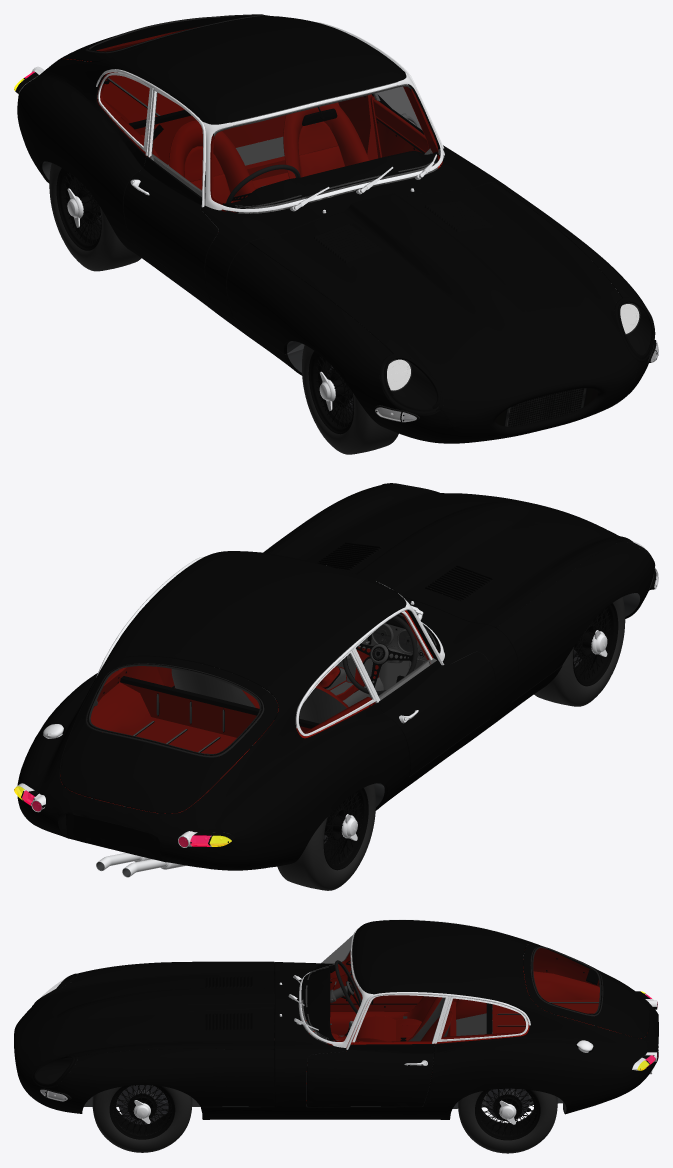
Rendered from jaguar-titi.glb.
The picture shows the model from 3 angles, top to bottom: view 1: azimuth 30°, elevation 25°; view 2: azimuth 150°, elevation 25°; view 3: azimuth 270°, elevation 25°; orthographic projection. The views are drawn at different scales.
Visible parts, largest first — view 1: COP:body_hooda_body_body.002, Jag1:body_body_body_body.002, COP:window_glassF_window_window.002, COP:leather_interior_leather_leather.002, Jag1:chrome_body_chrome_chrome.002, COP:leather_seatL_leather_leather.002, COP:bump_leather_interior_bump_leather_bump_leather.002, COP:leather_seatR_leather_leather.002, COP:window_glassRF_window_window.002, W2.002, chrome_rim_wheel_chrome_rim_chrome_rim1.002, W4.002 (+14 smaller); view 2: Jag1:body_body_body_body.002, COP:body_hooda_body_body.002, Jag1:body_trunk_body_body.002, Jag1:window_glassR_window_window.002, COP:leather_interior_leather_leather.002, COP:window_glassRF_window_window.002, Jag1:chrome_body_chrome_chrome.002, Jag1:window_glassRR_window_window.002, W4.002, chrome_rim_wheel_chrome_rim_chrome_rim1.002, W2.002, chrome_rim_wheel_chrome_rim_chrome_rim.007 (+9 smaller); view 3: Jag1:body_body_body_body.002, COP:body_hooda_body_body.002, COP:leather_interior_leather_leather.002, COP:window_glassF_window_window.002, COP:window_glassLF_window_window.002, Jag1:body_trunk_body_body.002, Jag1:window_glassR_window_window.002, Jag1:chrome_body_chrome_chrome.002, W1.002, W3.002, Jag1:window_glassLR_window_window.002, Jag1:chrome_rim_wheel_chrome_rim_chrome_rim.002 (+13 smaller).
Boxes of the visible parts, x1,y1,x2,y2 form: COP:body_hooda_body_body.002: [226, 182, 653, 443]; Jag1:body_body_body_body.002: [17, 16, 505, 375]; COP:window_glassF_window_window.002: [212, 85, 437, 206]; COP:leather_interior_leather_leather.002: [63, 27, 442, 189]; Jag1:chrome_body_chrome_chrome.002: [31, 21, 444, 213]; COP:leather_seatL_leather_leather.002: [283, 103, 368, 178]; COP:bump_leather_interior_bump_leather_bump_leather.002: [150, 151, 438, 213]; COP:leather_seatR_leather_leather.002: [169, 120, 255, 203]; COP:window_glassRF_window_window.002: [151, 92, 202, 191]; W2.002: [302, 345, 398, 454]; chrome_rim_wheel_chrome_rim_chrome_rim1.002: [56, 168, 101, 250]; W4.002: [49, 163, 141, 271]; Jag1:body_body_body_body.002: [17, 551, 562, 870]; COP:body_hooda_body_body.002: [263, 484, 654, 701]; Jag1:body_trunk_body_body.002: [60, 656, 278, 813]; Jag1:window_glassR_window_window.002: [91, 666, 259, 753]; COP:leather_interior_leather_leather.002: [60, 647, 378, 813]; COP:window_glassRF_window_window.002: [356, 613, 429, 697]; Jag1:chrome_body_chrome_chrome.002: [16, 557, 444, 847]; Jag1:window_glassRR_window_window.002: [299, 654, 371, 733]; W4.002: [277, 784, 375, 890]; chrome_rim_wheel_chrome_rim_chrome_rim1.002: [323, 788, 368, 870]; W2.002: [534, 597, 625, 706]; chrome_rim_wheel_chrome_rim_chrome_rim.007: [573, 603, 618, 686]; Jag1:body_body_body_body.002: [201, 920, 658, 1119]; COP:body_hooda_body_body.002: [14, 961, 274, 1113]; COP:leather_interior_leather_leather.002: [305, 948, 645, 1100]; COP:window_glassF_window_window.002: [303, 935, 362, 1040]; COP:window_glassLF_window_window.002: [355, 995, 444, 1042]; Jag1:body_trunk_body_body.002: [523, 943, 649, 1038]; Jag1:window_glassR_window_window.002: [533, 948, 599, 1013]; Jag1:chrome_body_chrome_chrome.002: [279, 919, 657, 1070]; W1.002: [92, 1086, 192, 1152]; W3.002: [458, 1090, 557, 1153]; Jag1:window_glassLR_window_window.002: [441, 999, 525, 1038]; Jag1:chrome_rim_wheel_chrome_rim_chrome_rim.002: [109, 1085, 175, 1139].
Bounding box in the file's own units: 1.66 × 1.19 × 4.29.
Materials: 26 (5 with a texture image).
